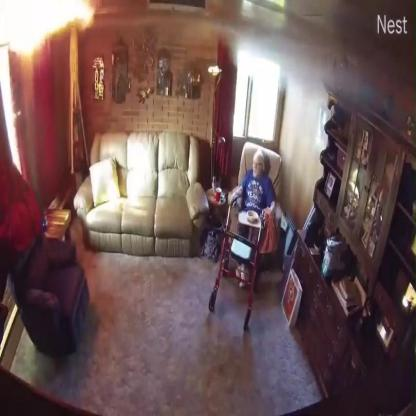fire: (0, 0, 96, 56)
